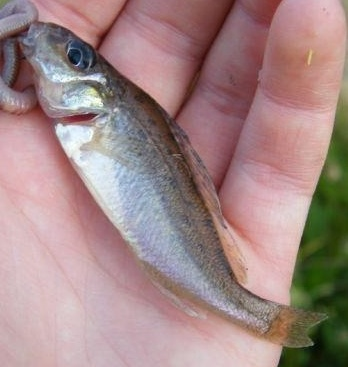Gymnocephalus cernuus: (20, 20, 328, 347)
